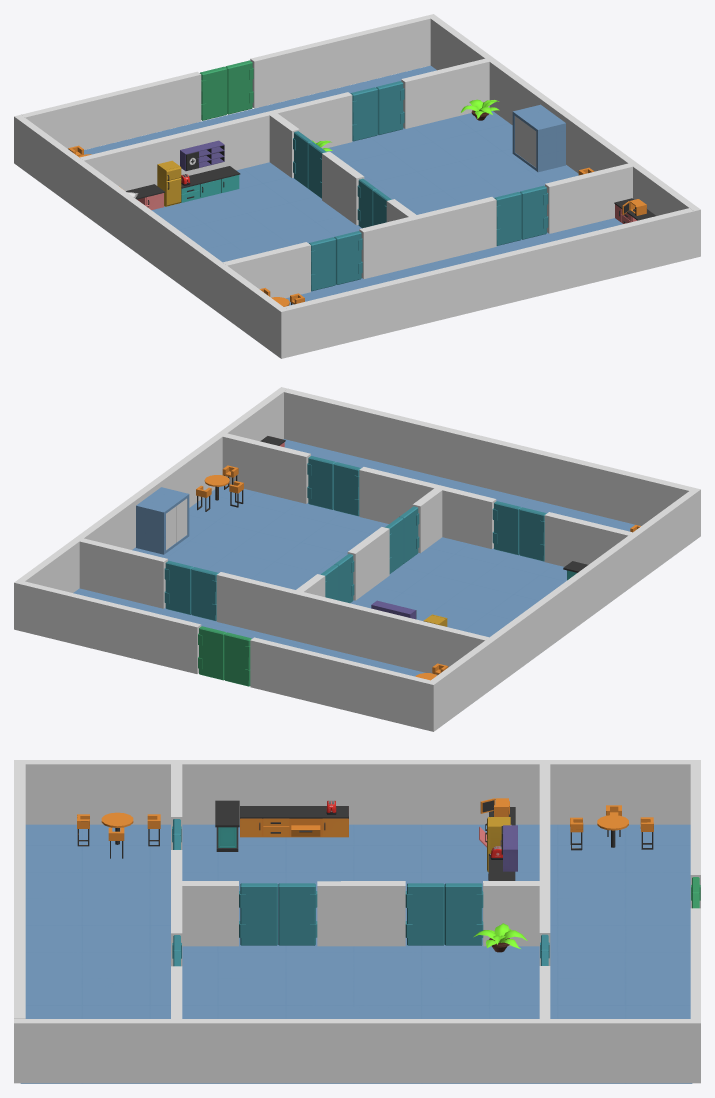
File: maps 03.fbx
3 renders of one model, top to bottom at view 1: azimuth 30°, elevation 25°; view 2: azimuth 150°, elevation 25°; view 3: azimuth 270°, elevation 25°, orthographic. The views are drawn at different scales.
Parts seen in each view (by area): view 1: frames_geo8, polySurface6 (×6), polySurface2 (×5), pasted__pCube1, polySurface111, frames_geo9, polySurface119, polySurface127, polySurface97; view 2: frames_geo8, polySurface2 (×6), polySurface6 (×5), pasted__pCube1, frames_geo10, ban_ghe3; view 3: frames_geo8, polySurface6 (×2), polySurface2 (×2), frames_geo10, polySurface99, frames_geo9, ban_ghe2, ban_ghe1, polySurface117, pasted__pCube1, polySurface119, Imbush_geo1 (+1 smaller).
Boxes of the visible parts, x1,y1,x2,y2 form: frames_geo8: (14,14,700,358); polySurface6 (×6): (225,60,548,284); polySurface2 (×5): (200,66,521,291); pasted__pCube1: (512,104,565,172); polySurface111: (181,166,240,202); frames_geo9: (269,113,299,177); polySurface119: (180,140,224,171); polySurface127: (157,160,181,206); polySurface97: (126,184,164,210); frames_geo8: (14,387,700,731); polySurface2 (×6): (191,462,546,686); polySurface6 (×5): (164,456,521,680); pasted__pCube1: (136,487,189,554); frames_geo10: (412,488,442,553); ban_ghe3: (196,465,243,511); frames_geo8: (14,760,700,1083); polySurface6 (×2): (278,883,483,945); polySurface2 (×2): (239,883,444,945); frames_geo10: (182,881,238,946); polySurface99: (240,806,348,837); frames_geo9: (483,881,539,946); ban_ghe2: (570,805,653,850); ban_ghe1: (77,812,160,858); polySurface117: (215,800,239,851); pasted__pCube1: (341,1007,406,1018); polySurface119: (500,825,517,871); Imbush_geo1: (473,923,527,952).
Size of what is drawn, in the model's own units: 83.08 by 9.21 by 91.67.
10 materials, 10 textured.
